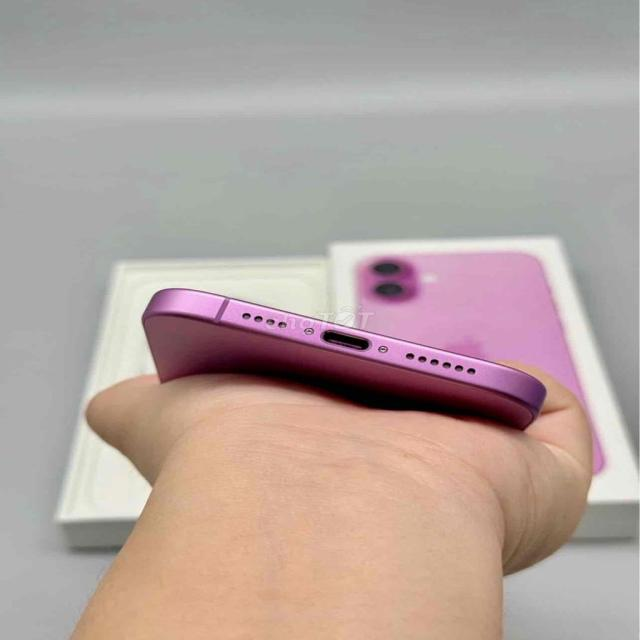gen_16: (120, 273, 550, 444)
